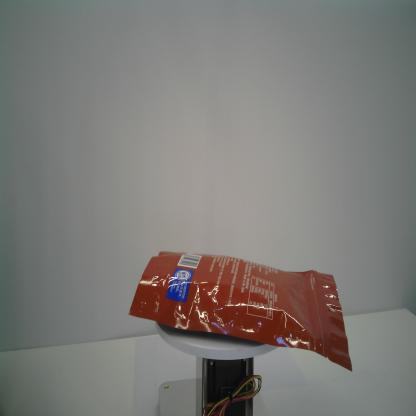Dried Food: (127, 249, 353, 374)
